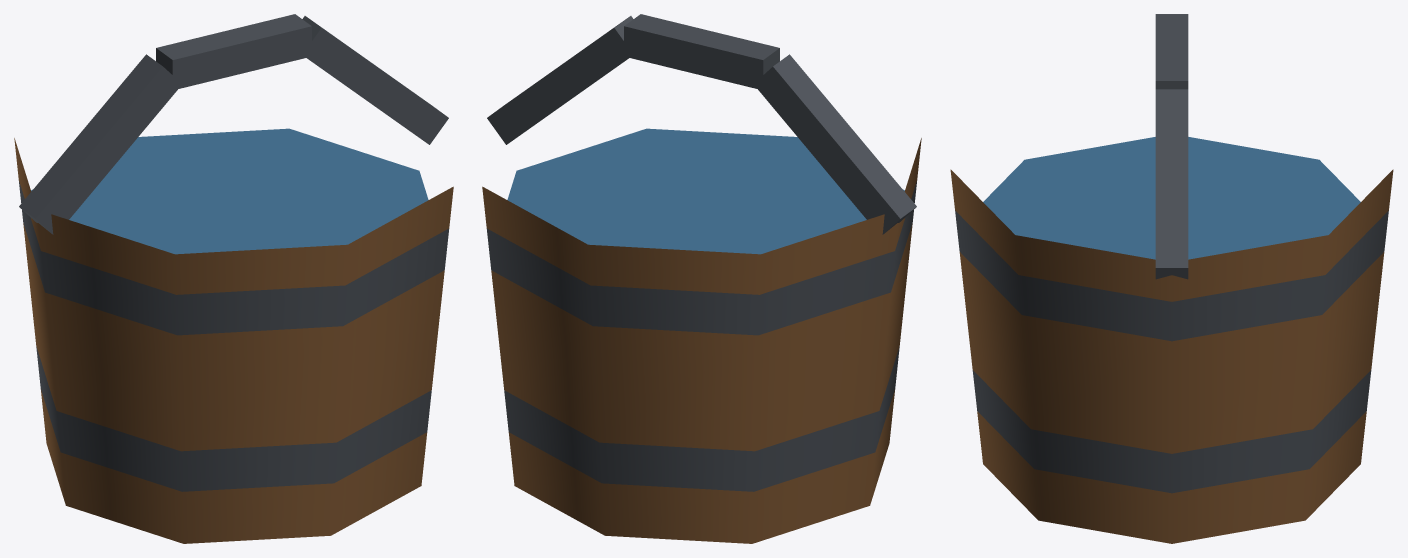
The model's file is crf_pail_water.glb.
The picture shows the model from 3 angles, left to right: view 1: azimuth 30°, elevation 25°; view 2: azimuth 150°, elevation 25°; view 3: azimuth 270°, elevation 25°; orthographic projection. The views are drawn at different scales.
Parts seen in each view (by area): view 1: crf_pail_water; view 2: crf_pail_water; view 3: crf_pail_water.
Boxes of the visible parts, x1,y1,x2,y2 form: crf_pail_water: [14, 14, 453, 543]; crf_pail_water: [482, 14, 921, 543]; crf_pail_water: [950, 14, 1393, 543].
Bounding box in the file's own units: 0.0714 × 0.0705 × 0.068.
